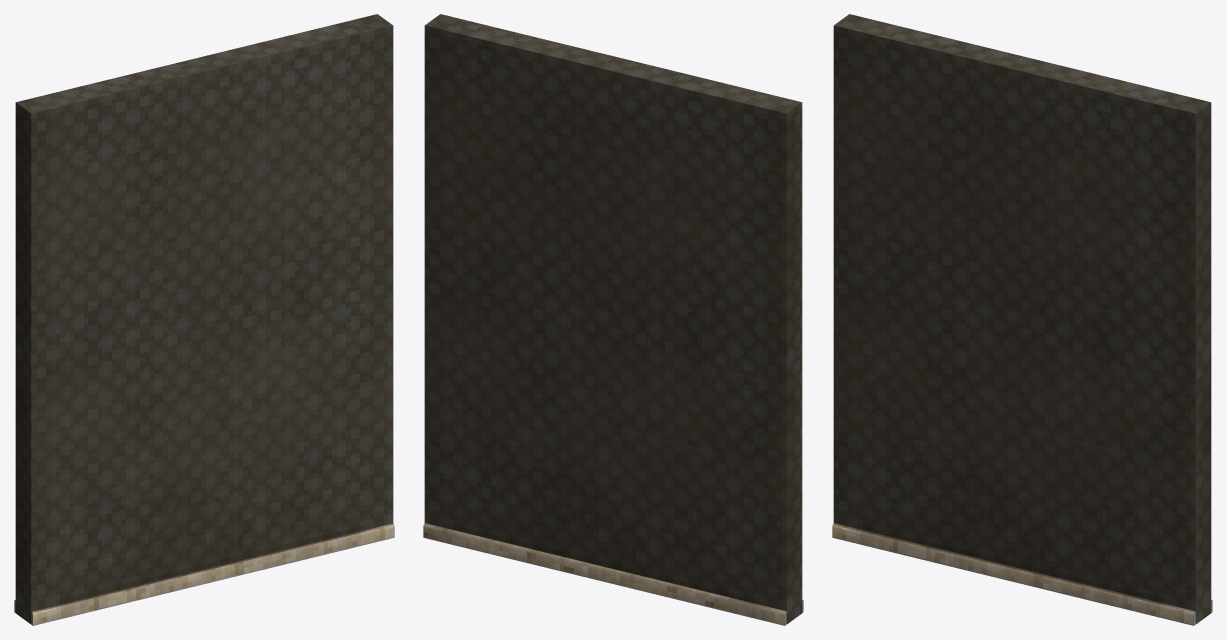
Rendered from Wall_Basic_IntInt.glb.
3 renders of one model, left to right at view 1: azimuth 30°, elevation 25°; view 2: azimuth 150°, elevation 25°; view 3: azimuth 330°, elevation 25°, orthographic.
Parts seen in each view (by area): view 1: Wall_Basic_IntInt; view 2: Wall_Basic_IntInt; view 3: Wall_Basic_IntInt.
Part boxes in pixels (x1,y1,x2,y2): Wall_Basic_IntInt: (14,14,394,625); Wall_Basic_IntInt: (423,14,803,625); Wall_Basic_IntInt: (832,14,1212,625).
Size of the model in its own units: 2 by 2.7 by 0.18.
Materials: 1 (1 with a texture image).
